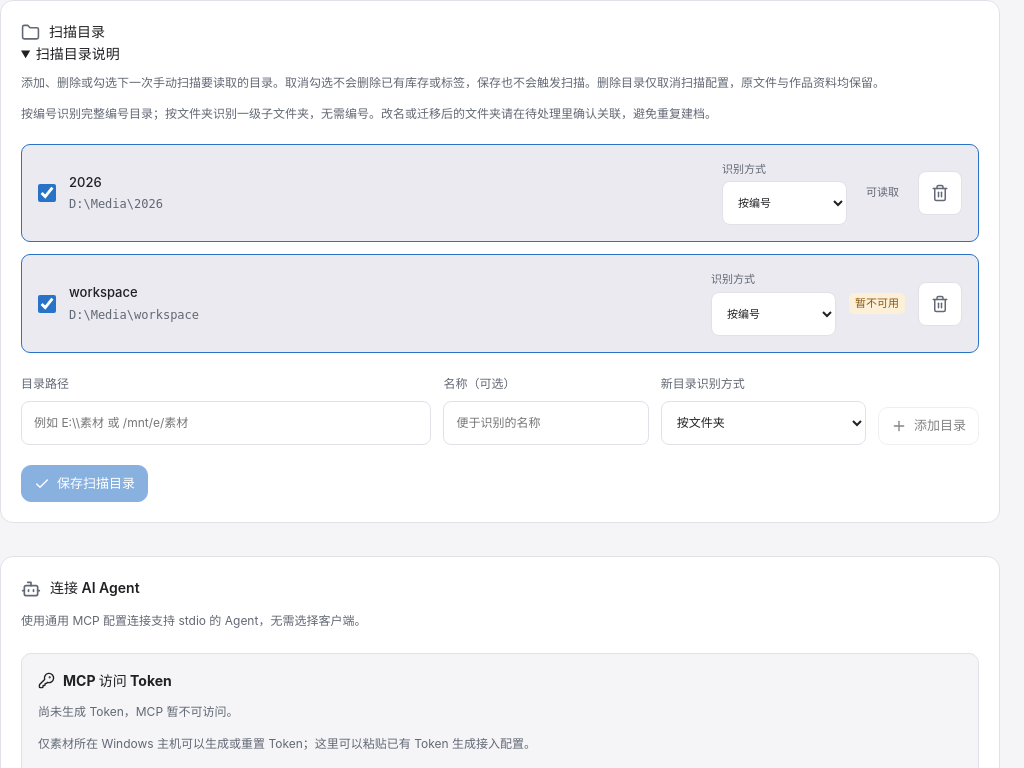
Test: persisted scan directory selection › keeps drafts through actual settings polling instead of replacing them with another client’s changes
The image size is (1024, 768).
Click the checkbox named "扫描 workspace". click: [47, 304]
box: [38, 295, 56, 313]
Wait 10000 ms
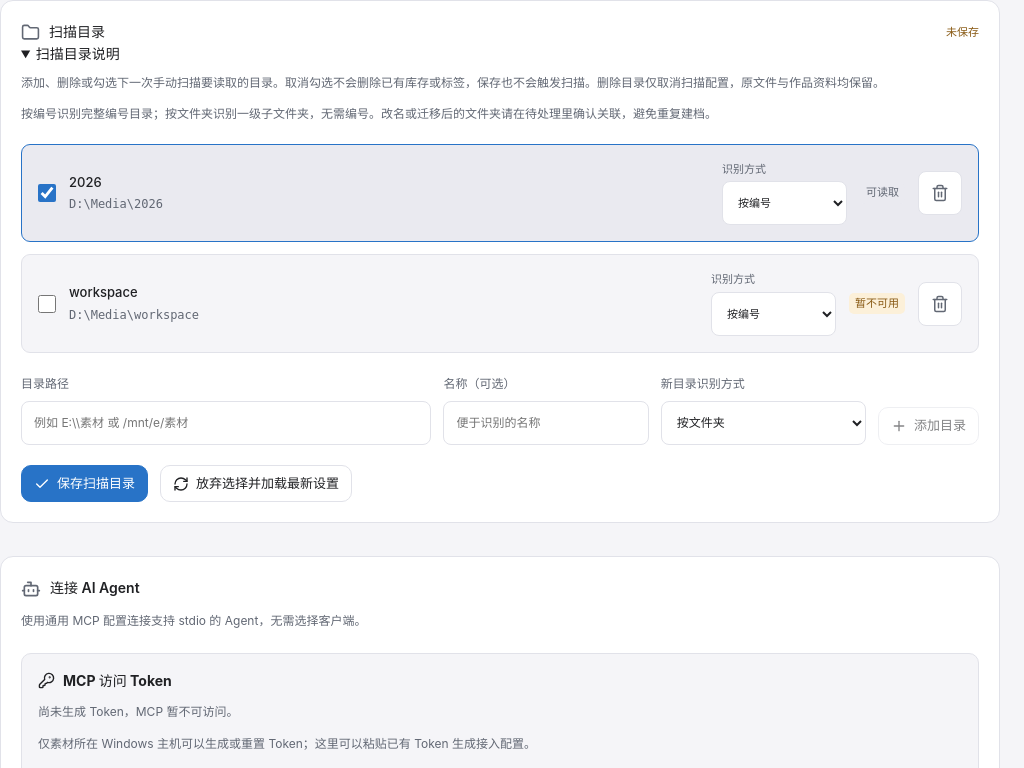
expect the checkbox named "扫描 2026" is checked: met, box [38, 184, 56, 202]
expect the checkbox named "扫描 workspace" is not checked: met, box [38, 295, 56, 313]
expect the text "未保存" is shown: met, box [946, 24, 979, 40]
